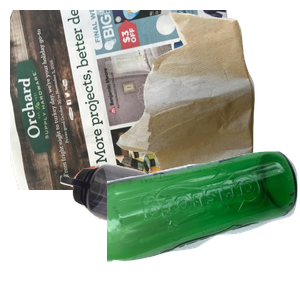glass: (107, 149, 300, 300)
paper: (10, 10, 250, 190)
plastic: (58, 162, 261, 300)
trash: (114, 10, 300, 189)
